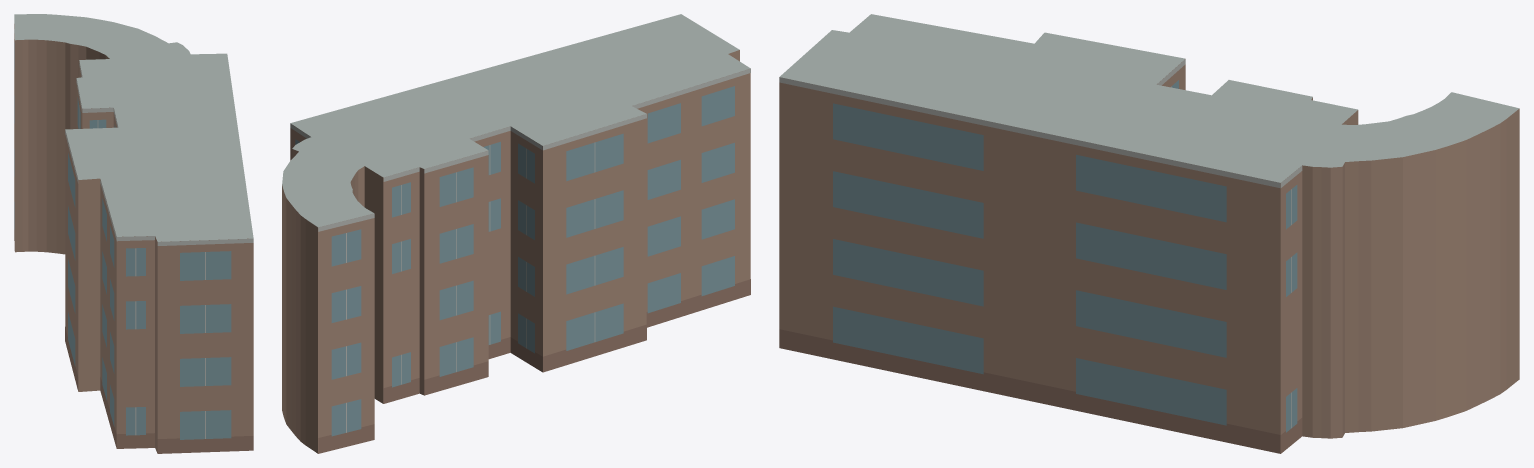
File: survey-upis-32979678.glb
3 views of the same model, side by side, from view 1: azimuth 30°, elevation 25°; view 2: azimuth 150°, elevation 25°; view 3: azimuth 270°, elevation 25° (orthographic). The views are drawn at different scales.
Visible parts, largest first — view 1: survey-upis-32979678.tmp; view 2: survey-upis-32979678.tmp; view 3: survey-upis-32979678.tmp.
Part boxes in pixels (left/top/right/bottom): survey-upis-32979678.tmp: left=14, top=14, right=253, bottom=453; survey-upis-32979678.tmp: left=282, top=14, right=750, bottom=453; survey-upis-32979678.tmp: left=779, top=14, right=1519, bottom=453.
Size of the model in its own units: 16.3 by 12.19 by 30.19.
